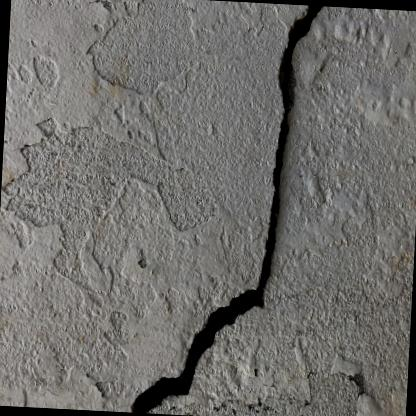crack: (131, 5, 322, 413)
